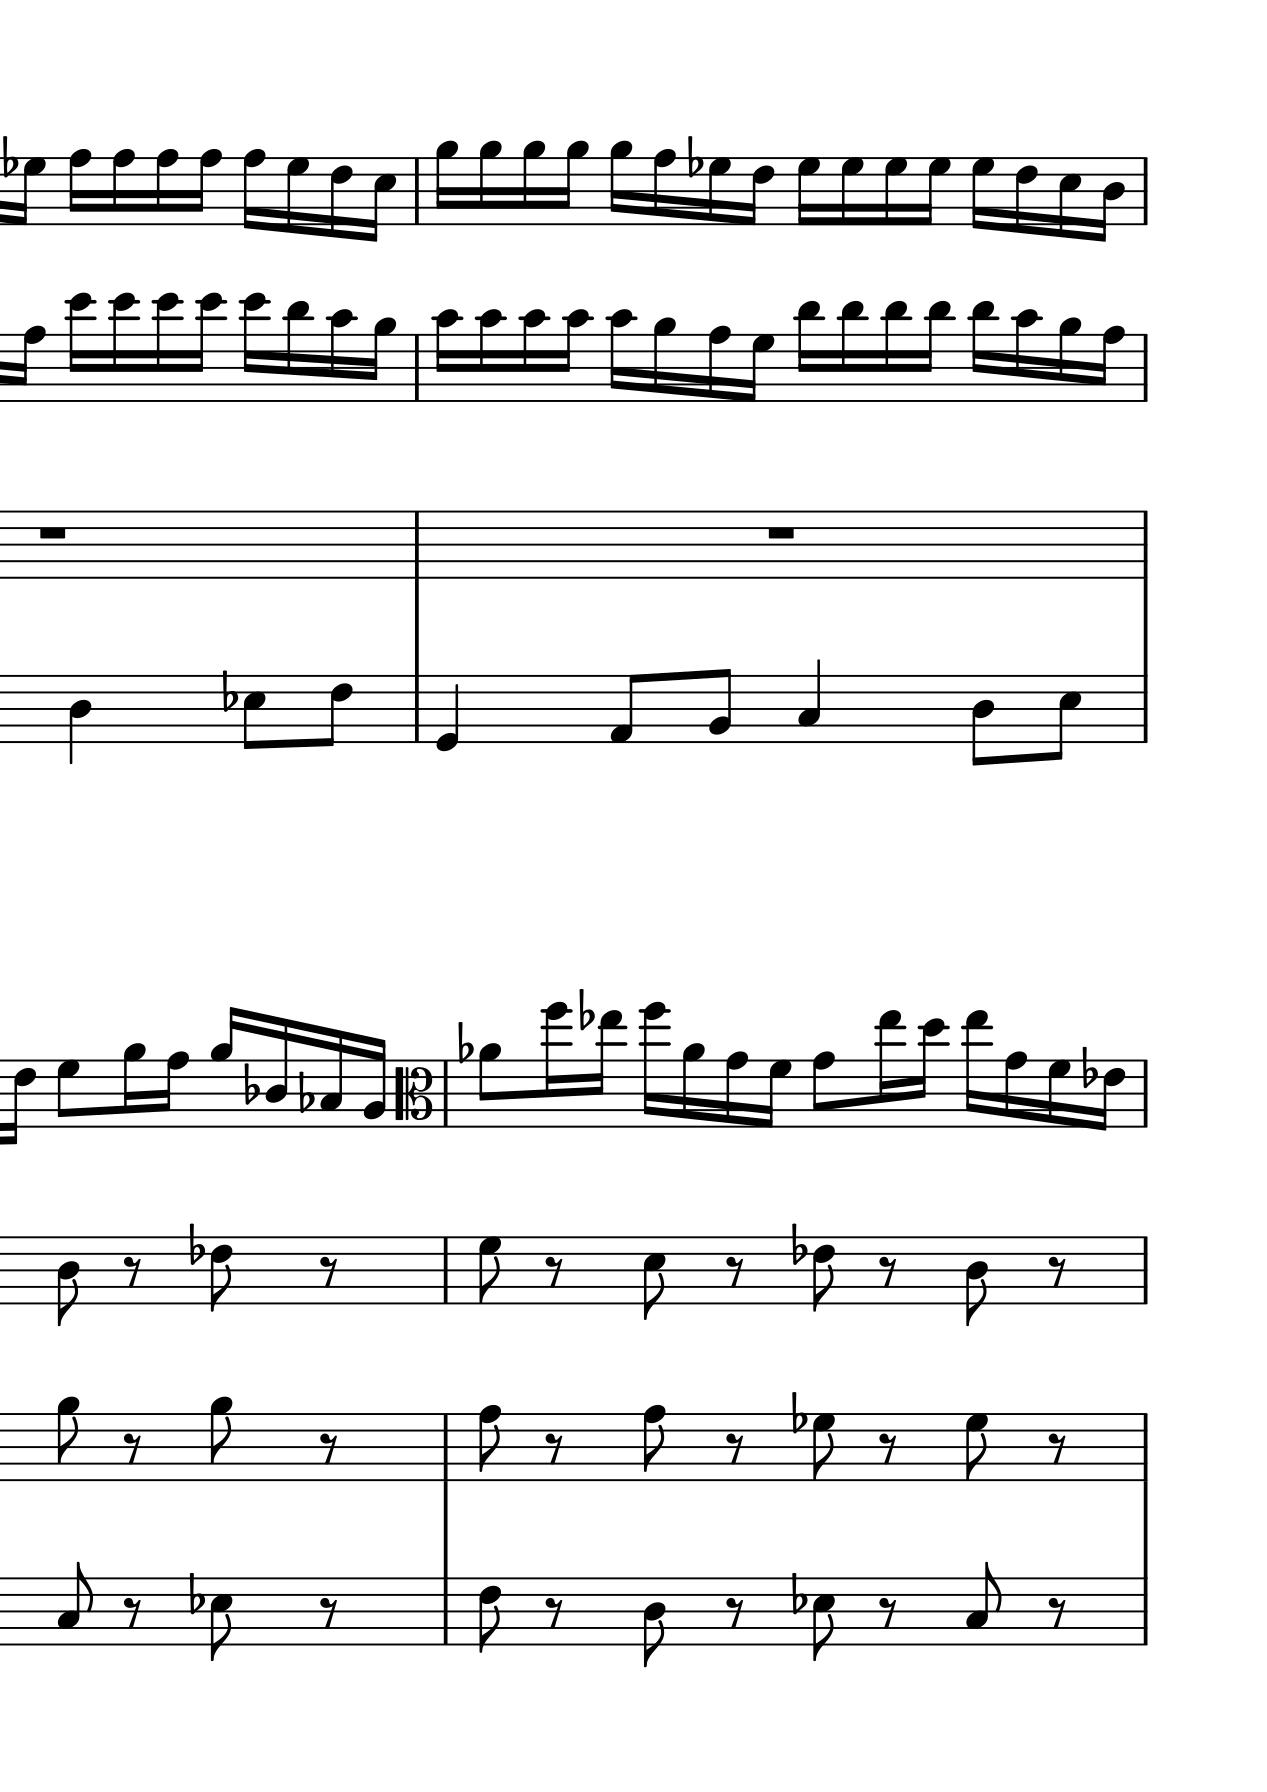16_10: (558, 307, 591, 404), (325, 308, 357, 404), (431, 308, 461, 406), (474, 308, 505, 406), (518, 307, 548, 404), (1011, 307, 1041, 404), (606, 307, 635, 404)
16_11: (919, 299, 954, 404), (879, 299, 910, 404), (967, 300, 998, 403), (793, 299, 823, 404), (836, 299, 867, 404), (281, 298, 310, 404)
16_12: (188, 291, 225, 404), (910, 1017, 948, 1128), (63, 291, 95, 404), (151, 291, 182, 404), (108, 291, 138, 404), (239, 291, 267, 404)
16_13: (590, 1008, 624, 1128), (873, 1008, 904, 1131), (961, 1006, 991, 1128)
16_14: (540, 1000, 570, 1128), (639, 1001, 669, 1130)
16_2: (361, 1034, 387, 1128)
16_3: (317, 1027, 344, 1130)
16_4: (1096, 156, 1124, 244)
16_5: (363, 155, 398, 243), (1056, 155, 1081, 240)
16_6: (1, 1057, 36, 1146), (742, 155, 773, 228), (1094, 1057, 1124, 1133), (328, 155, 352, 240), (1013, 155, 1038, 236)
16_7: (740, 332, 775, 404), (758, 1057, 791, 1131), (12, 155, 44, 228), (919, 155, 950, 228), (282, 154, 309, 237), (969, 155, 994, 233), (1043, 1057, 1070, 1131), (705, 155, 731, 228), (795, 155, 820, 229), (838, 155, 862, 228), (882, 155, 906, 228)
16_8: (1091, 324, 1124, 404), (155, 1052, 188, 1130), (189, 148, 221, 228), (12, 324, 44, 403), (64, 147, 90, 228), (240, 147, 265, 232), (108, 148, 134, 228), (1001, 1050, 1027, 1130), (705, 324, 729, 404), (152, 148, 177, 228), (650, 148, 675, 228), (723, 1050, 747, 1128)
16_9: (208, 1004, 240, 1133), (365, 315, 396, 404), (558, 140, 590, 228), (1054, 315, 1081, 404), (477, 140, 503, 228), (520, 140, 546, 228), (679, 1041, 705, 1128), (433, 140, 458, 228), (607, 140, 632, 228), (650, 315, 675, 403), (121, 1041, 145, 1128)
4_0: (433, 673, 461, 753)
4_3: (795, 658, 821, 746)
4_4: (66, 672, 93, 766)
8_1: (606, 672, 642, 746)
8_2: (706, 666, 732, 744)
8_3: (55, 1559, 95, 1647), (963, 1560, 1002, 1647)
8_4: (262, 1015, 289, 1128), (969, 673, 995, 769), (53, 1234, 80, 1329), (963, 1235, 989, 1329), (640, 1575, 666, 1669)
8_5: (1048, 673, 1081, 762), (809, 1575, 836, 1663), (207, 1575, 234, 1662), (640, 1234, 666, 1322), (240, 673, 266, 751)
8_6: (317, 673, 352, 749), (809, 1235, 836, 1313), (476, 1575, 503, 1654), (207, 1235, 233, 1313)
8_7: (809, 1412, 836, 1482), (963, 1412, 990, 1482), (53, 1057, 80, 1128), (476, 1235, 502, 1307)
8_8: (474, 1404, 502, 1484), (809, 1050, 836, 1128), (640, 1404, 666, 1484)
8_9: (53, 1396, 82, 1484), (207, 1396, 234, 1484), (476, 1042, 500, 1128)
Cclef: (392, 1057, 435, 1131)
Flat: (684, 134, 703, 181), (454, 1019, 473, 1065), (575, 986, 594, 1032), (1078, 1043, 1096, 1090), (788, 1222, 806, 1268), (788, 1389, 806, 1436), (788, 1571, 806, 1618), (219, 669, 237, 714), (1, 134, 18, 181), (186, 1571, 203, 1618), (241, 1064, 259, 1106), (186, 1222, 203, 1267), (296, 1071, 313, 1113)
Rests1: (33, 522, 70, 543), (762, 522, 798, 542)
Rests8: (121, 1255, 143, 1290), (121, 1430, 143, 1466), (317, 1430, 339, 1466), (723, 1430, 745, 1466), (876, 1430, 898, 1466), (542, 1595, 564, 1630), (315, 1255, 337, 1289), (1045, 1255, 1067, 1289), (1045, 1431, 1067, 1466), (121, 1595, 143, 1629), (315, 1595, 337, 1629), (1043, 1595, 1065, 1629), (543, 1430, 564, 1466), (542, 1255, 564, 1287), (723, 1255, 745, 1287), (723, 1595, 745, 1627), (876, 1255, 897, 1289), (875, 1595, 895, 1629)
Single_barline: (406, 158, 426, 225), (406, 511, 426, 579), (1134, 1578, 1155, 1645), (1134, 1414, 1155, 1479), (1135, 158, 1155, 226), (435, 1577, 454, 1645), (435, 1414, 454, 1481), (407, 335, 426, 400), (1135, 676, 1155, 742), (435, 1238, 454, 1303), (1135, 335, 1153, 402), (409, 675, 426, 742), (1135, 1237, 1153, 1304), (1135, 511, 1153, 577), (1137, 1060, 1153, 1128), (436, 1061, 452, 1127)
